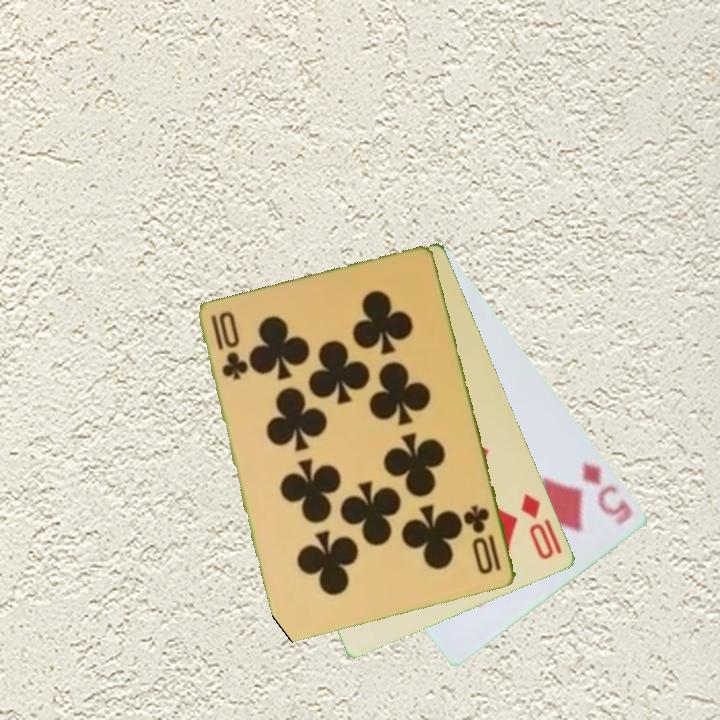10c: (461, 501, 505, 578), (208, 308, 248, 384)
10d: (518, 490, 566, 563)
5d: (579, 458, 636, 529)
